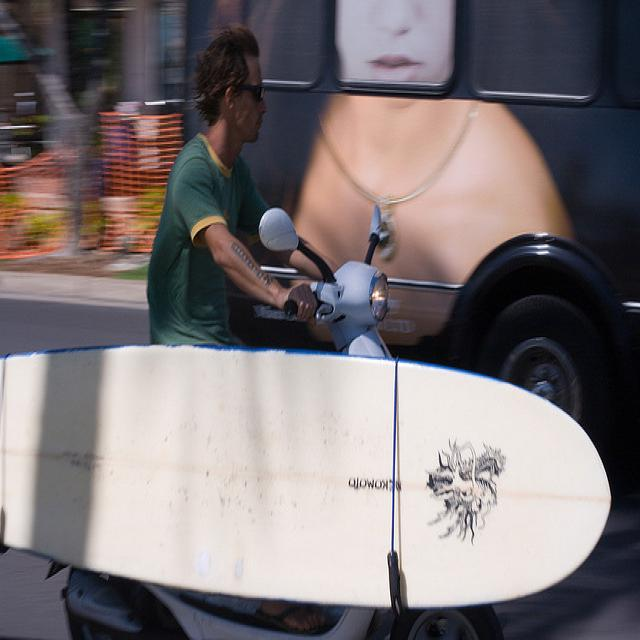motor: (44, 205, 398, 633)
